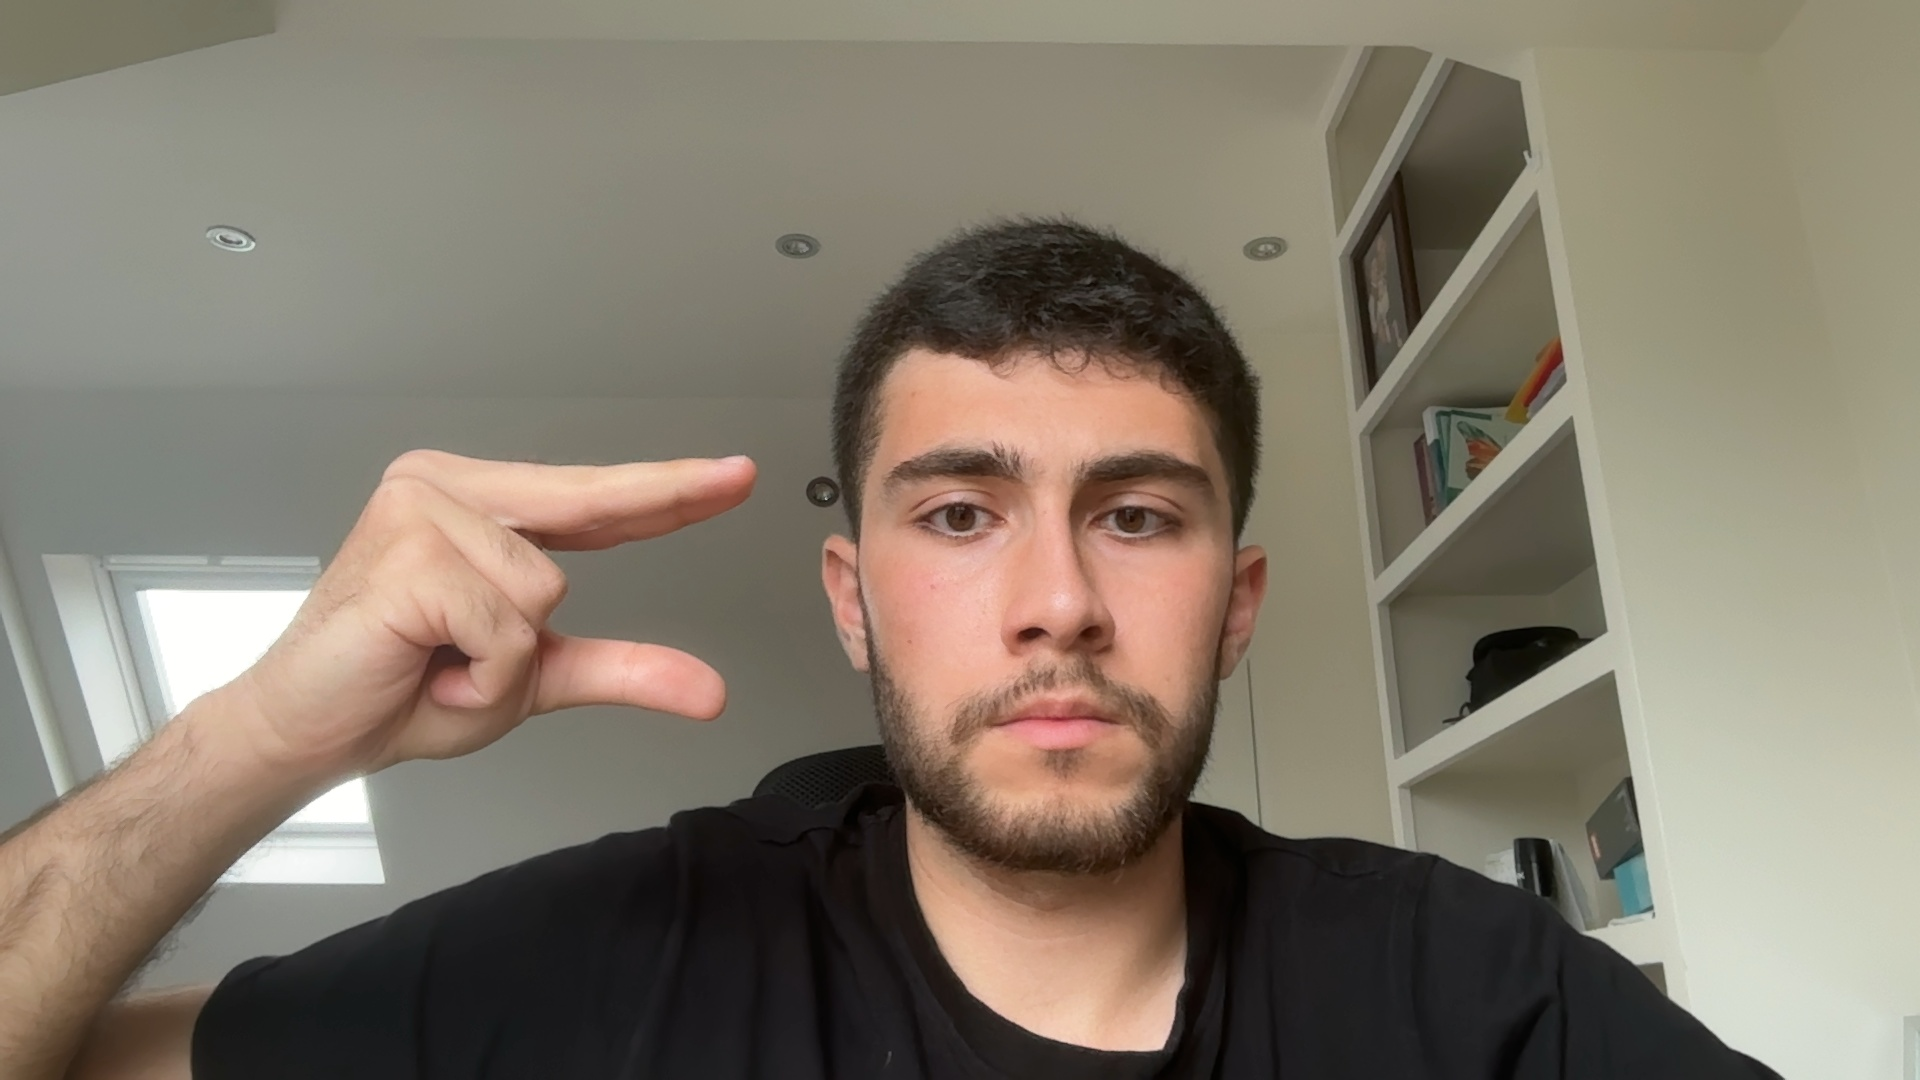no: (245, 435, 778, 778)
